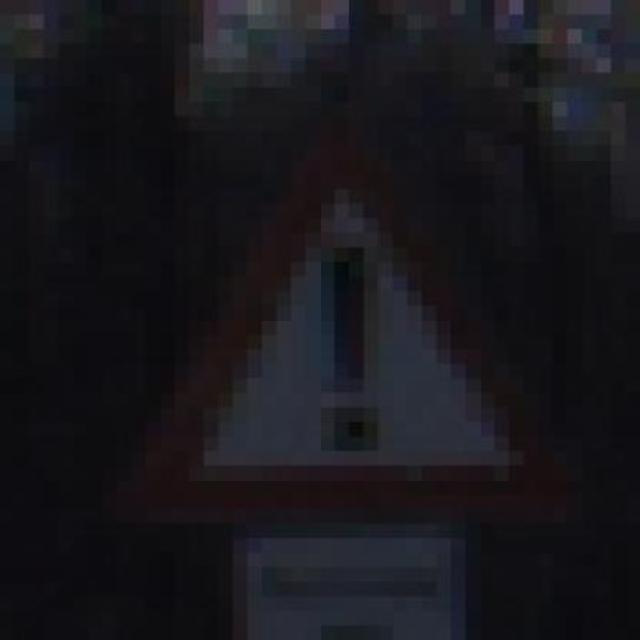Attention Please-: (72, 116, 597, 524)
